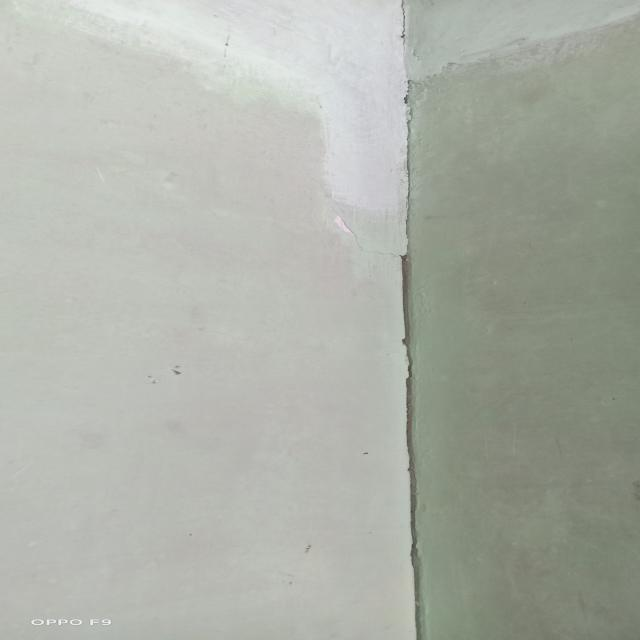Crack: (378, 106, 447, 220), (380, 3, 438, 102), (384, 225, 429, 342), (386, 346, 434, 448), (388, 450, 432, 561), (401, 566, 440, 635)
